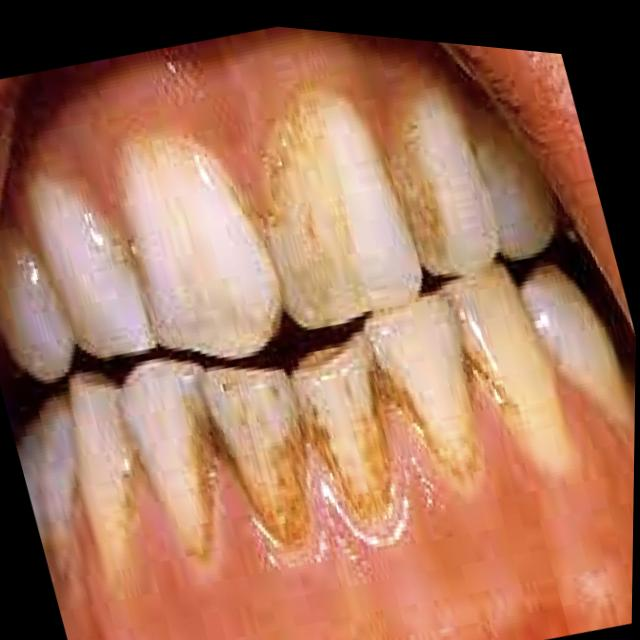tooth-discoloration: (264, 87, 420, 323), (204, 366, 307, 544), (293, 335, 390, 516)
